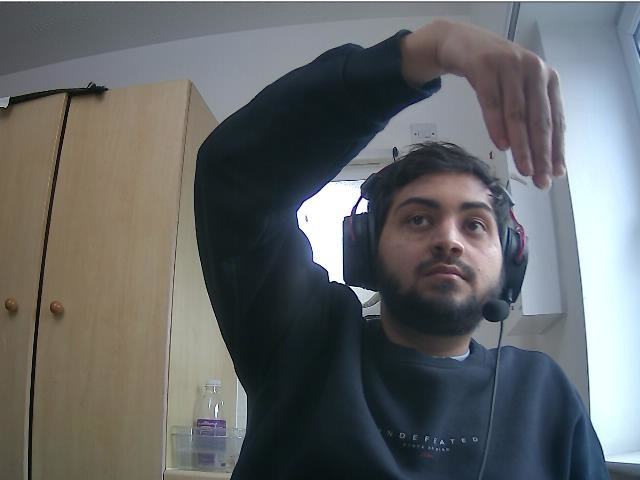down: (469, 28, 568, 191)
